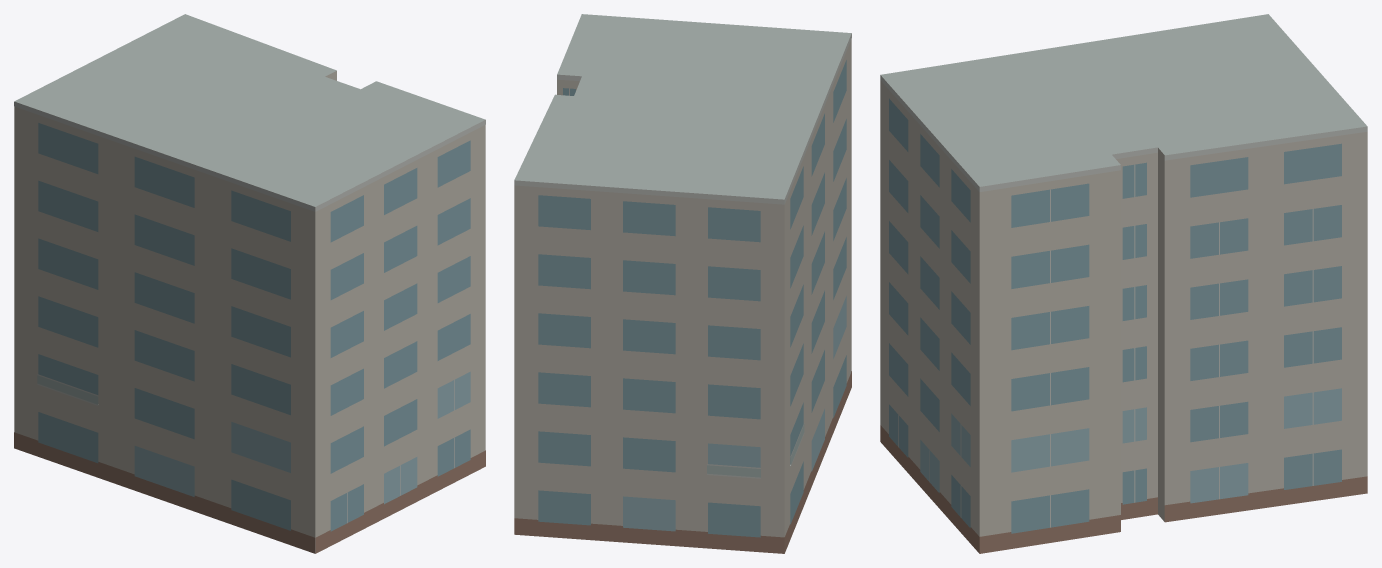
Rendered from survey-upis-32976421.glb.
The picture shows the model from 3 angles, left to right: view 1: azimuth 30°, elevation 25°; view 2: azimuth 150°, elevation 25°; view 3: azimuth 270°, elevation 25°; orthographic projection. The views are drawn at different scales.
Parts seen in each view (by area): view 1: survey-upis-32976421.tmp; view 2: survey-upis-32976421.tmp; view 3: survey-upis-32976421.tmp.
Part boxes in pixels (bbox=[...]): survey-upis-32976421.tmp: bbox=[14, 14, 485, 553]; survey-upis-32976421.tmp: bbox=[514, 14, 851, 553]; survey-upis-32976421.tmp: bbox=[880, 14, 1367, 553].
Size of the model in its own units: 17.25 by 17.05 by 20.53.
